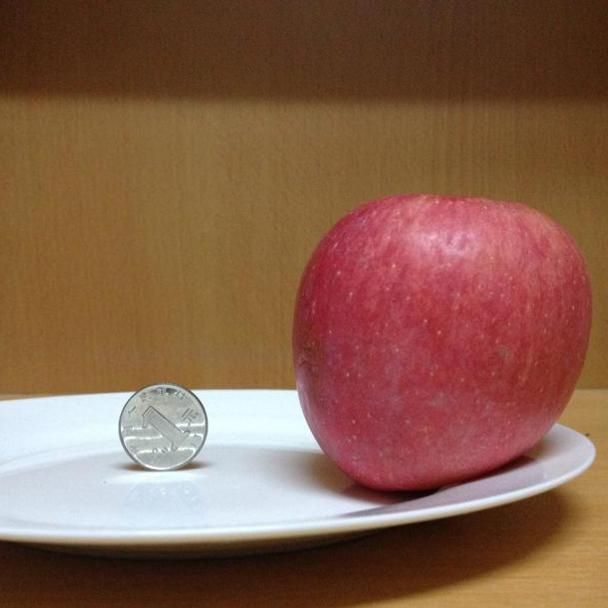apple: (291, 194, 593, 491)
